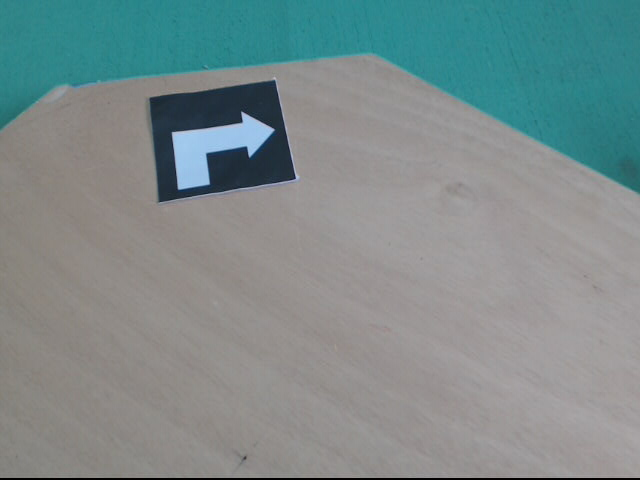right: (149, 79, 297, 200)
